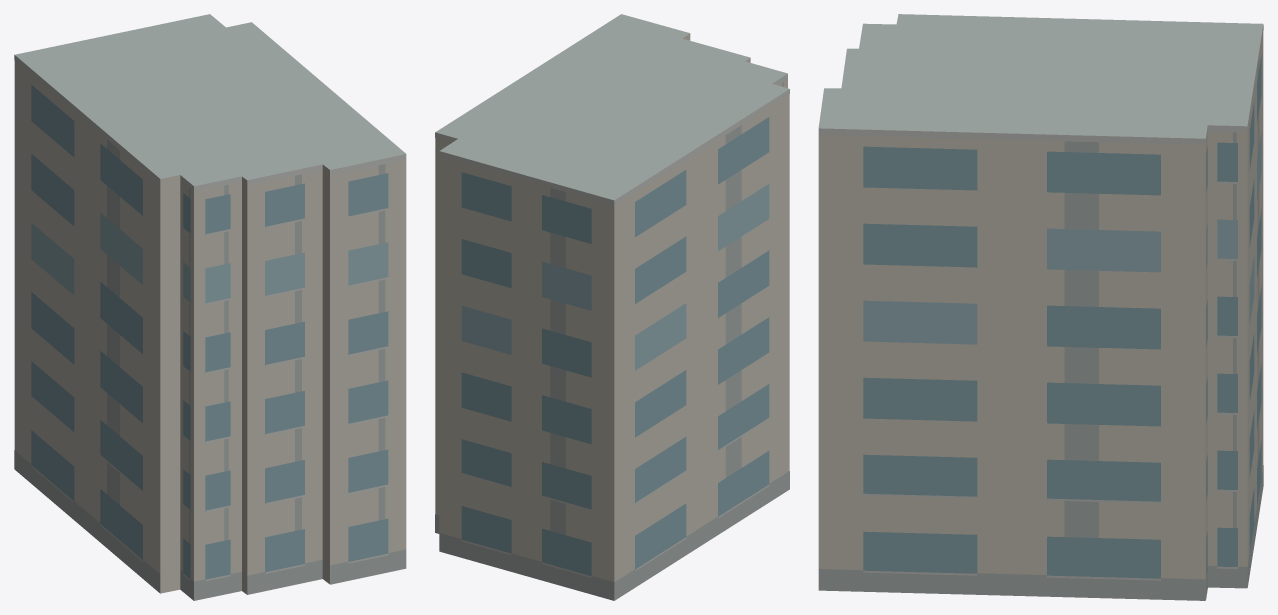
Rendered from survey-upis-32700169.glb.
3 views of the same model, side by side, from view 1: azimuth 30°, elevation 25°; view 2: azimuth 150°, elevation 25°; view 3: azimuth 270°, elevation 25° (orthographic). The views are drawn at different scales.
Visible parts, largest first — view 1: survey-upis-32700169.tmp; view 2: survey-upis-32700169.tmp; view 3: survey-upis-32700169.tmp.
Boxes of the visible parts, left/top/right/bottom form: survey-upis-32700169.tmp: left=14, top=14, right=406, bottom=600; survey-upis-32700169.tmp: left=435, top=14, right=789, bottom=600; survey-upis-32700169.tmp: left=818, top=14, right=1263, bottom=600.
Bounding box in the file's own units: 10.34 × 17.84 × 15.58.
